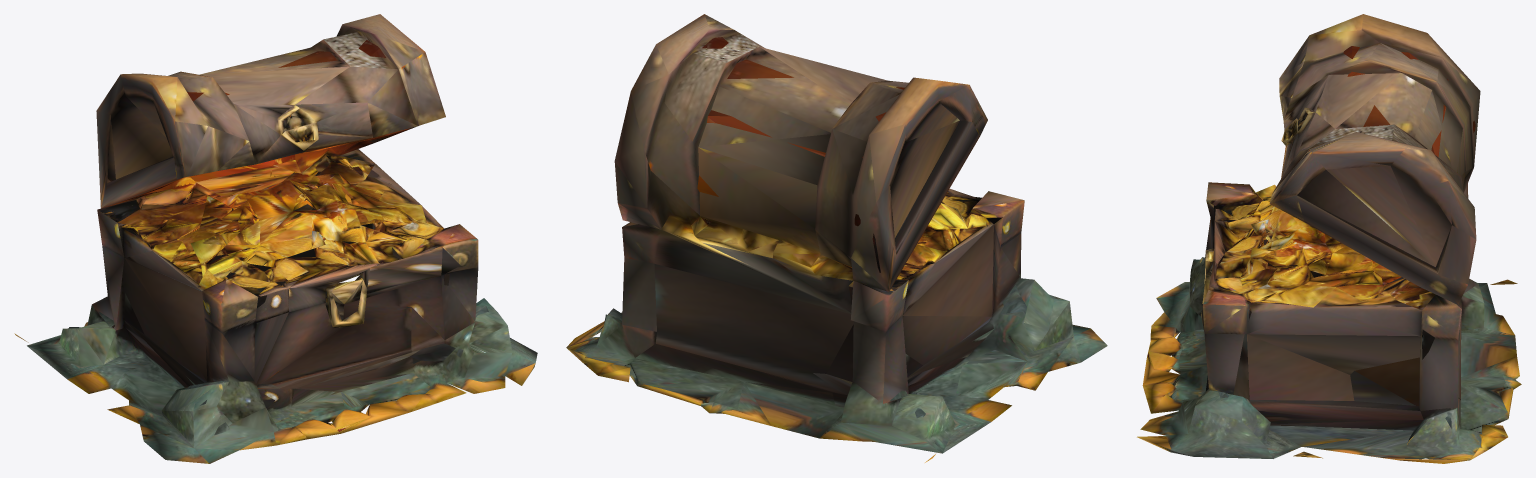
File: cofre.fbx
3 views of the same model, side by side, from view 1: azimuth 30°, elevation 25°; view 2: azimuth 150°, elevation 25°; view 3: azimuth 270°, elevation 25° (orthographic). The views are drawn at different scales.
Parts seen in each view (by area): view 1: Mesh_0; view 2: Mesh_0; view 3: Mesh_0.
Boxes of the visible parts, bbox=[...] form: Mesh_0: bbox=[14, 14, 537, 463]; Mesh_0: bbox=[566, 14, 1107, 462]; Mesh_0: bbox=[1137, 14, 1521, 463].
Size of the model in its own units: 198 by 150 by 170.
Materials: 1 (1 with a texture image).
